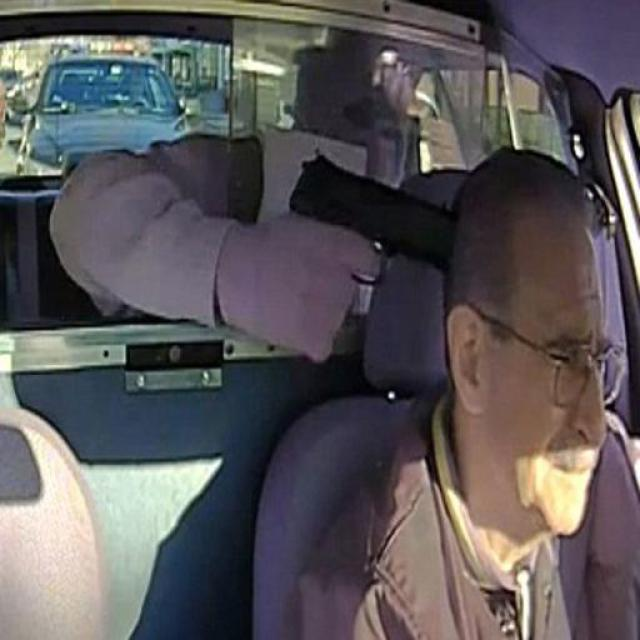pistol: (278, 145, 456, 359)
